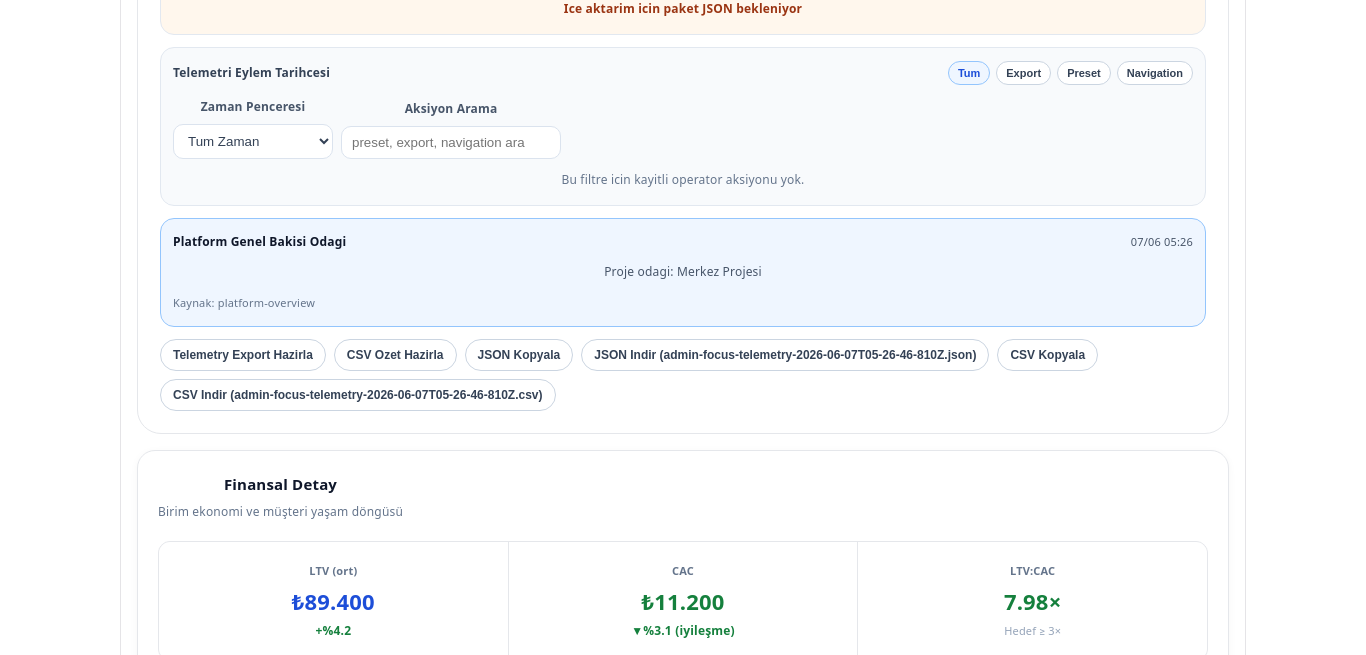
Test: AdminPage tenant governance permissions › platform overview telemetry export aksiyonlarinda hata durumlarini gosterir
(page scrolled)
Click the button "JSON Kopyala" at (519, 355), box [464,339,573,371]
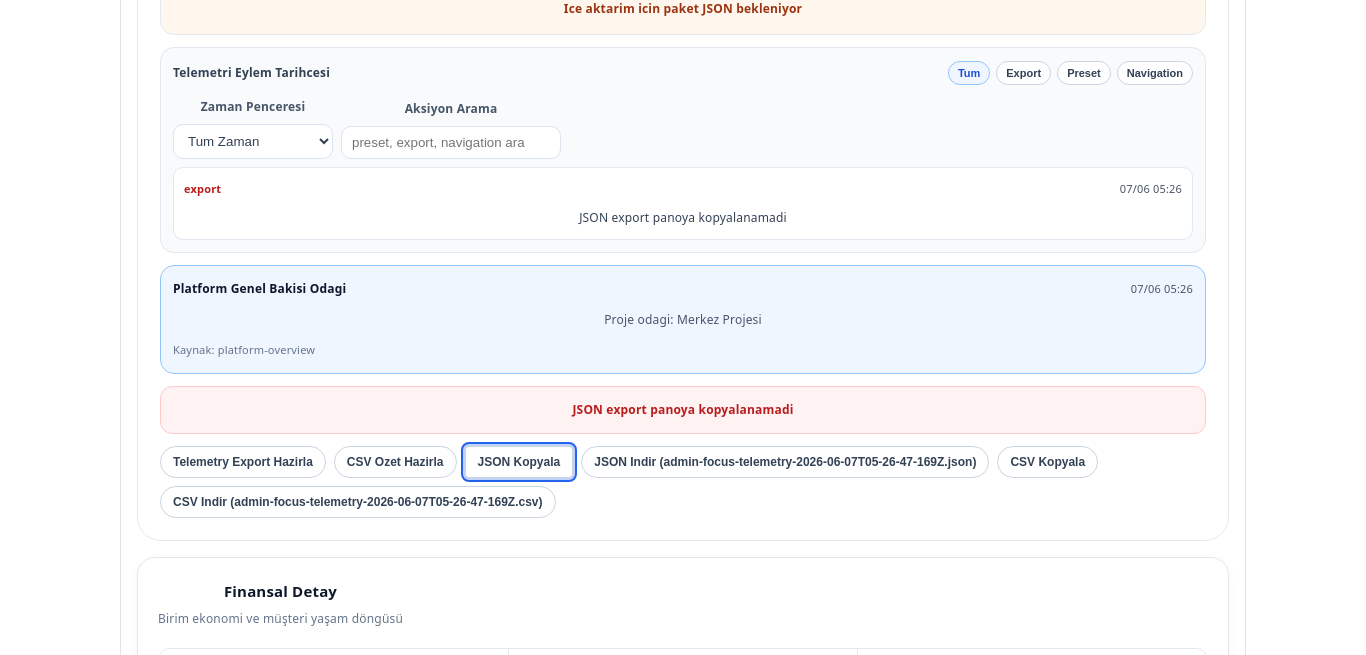
Now the text "JSON export panoya kopyalanamadi" below "Aksiyon Arama" is shown, box [579,209,787,226]
Click the button that starts with "JSON Indir (" at (785, 462), box [581,446,989,478]
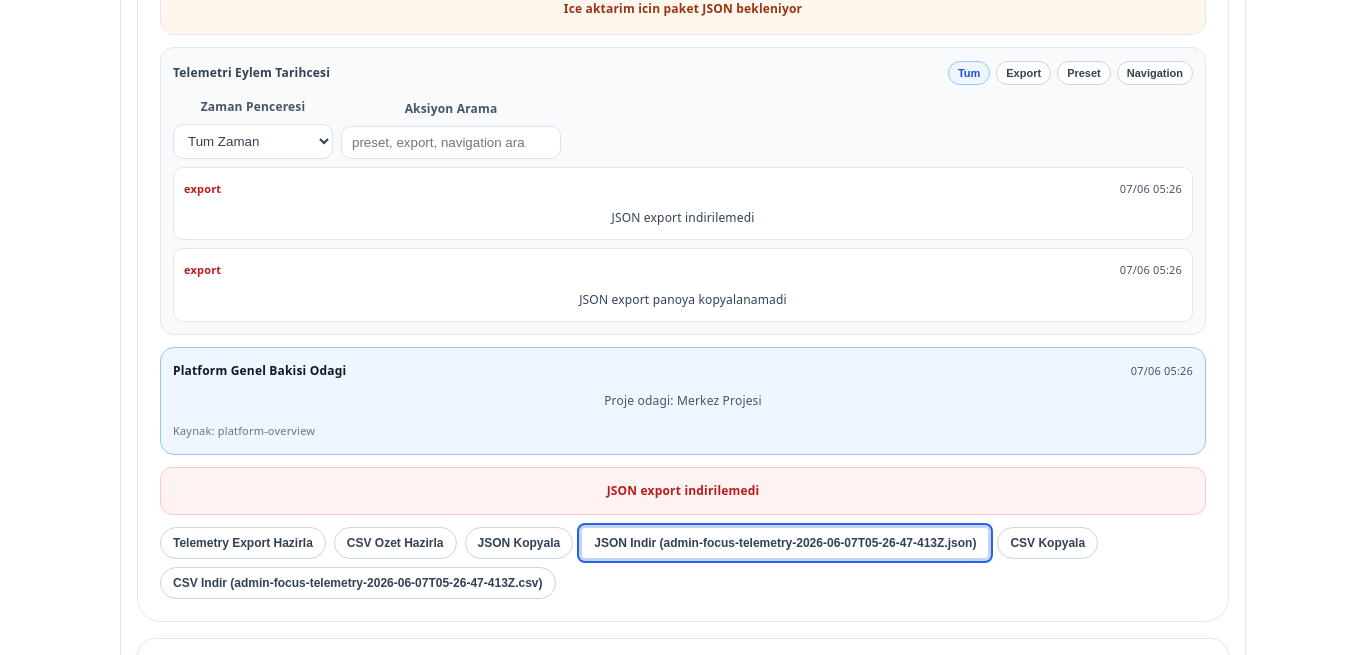
Expected: the text "Telemetri Eylem Tarihcesi" is shown, [173,60,330,86]
Now the text "JSON export indirilemedi" below "Aksiyon Arama" is shown, box [612,209,755,226]
Click the button "Export" at (1024, 73), box [996,61,1051,85]
(page scrolled)
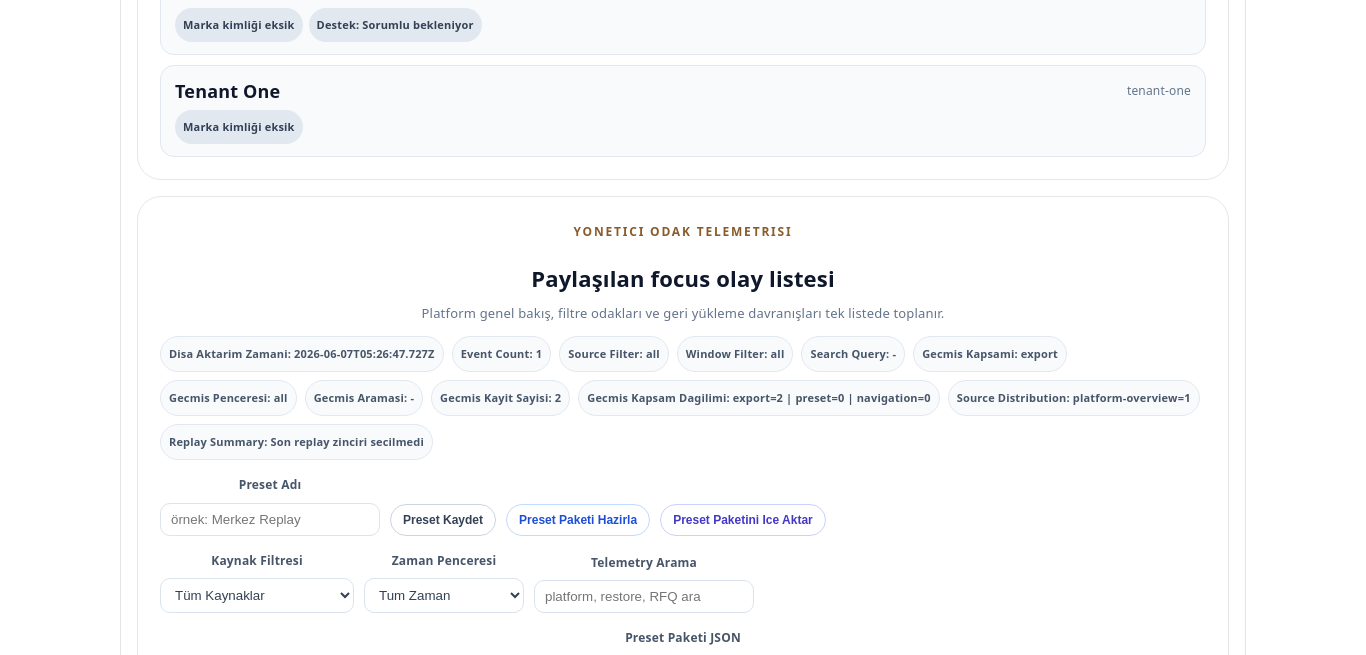
Now the text "Gecmis Kapsami: export" is shown, box [913,336,1067,372]
